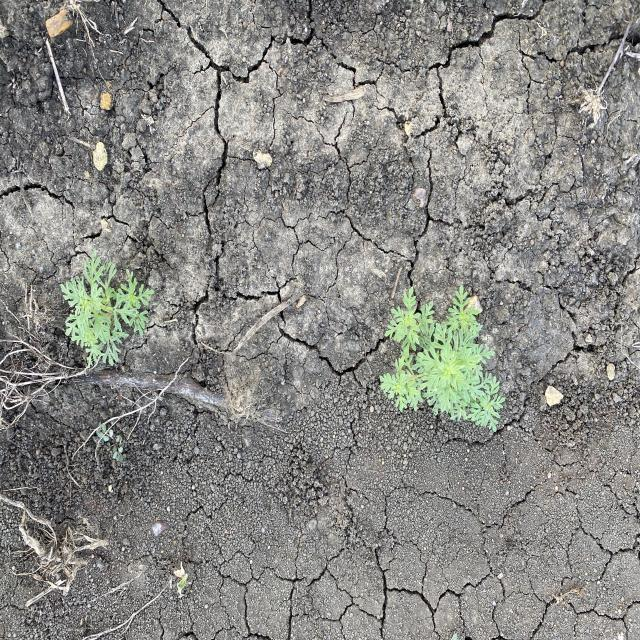Ragweed: (378, 283, 507, 435), (58, 247, 156, 371)
